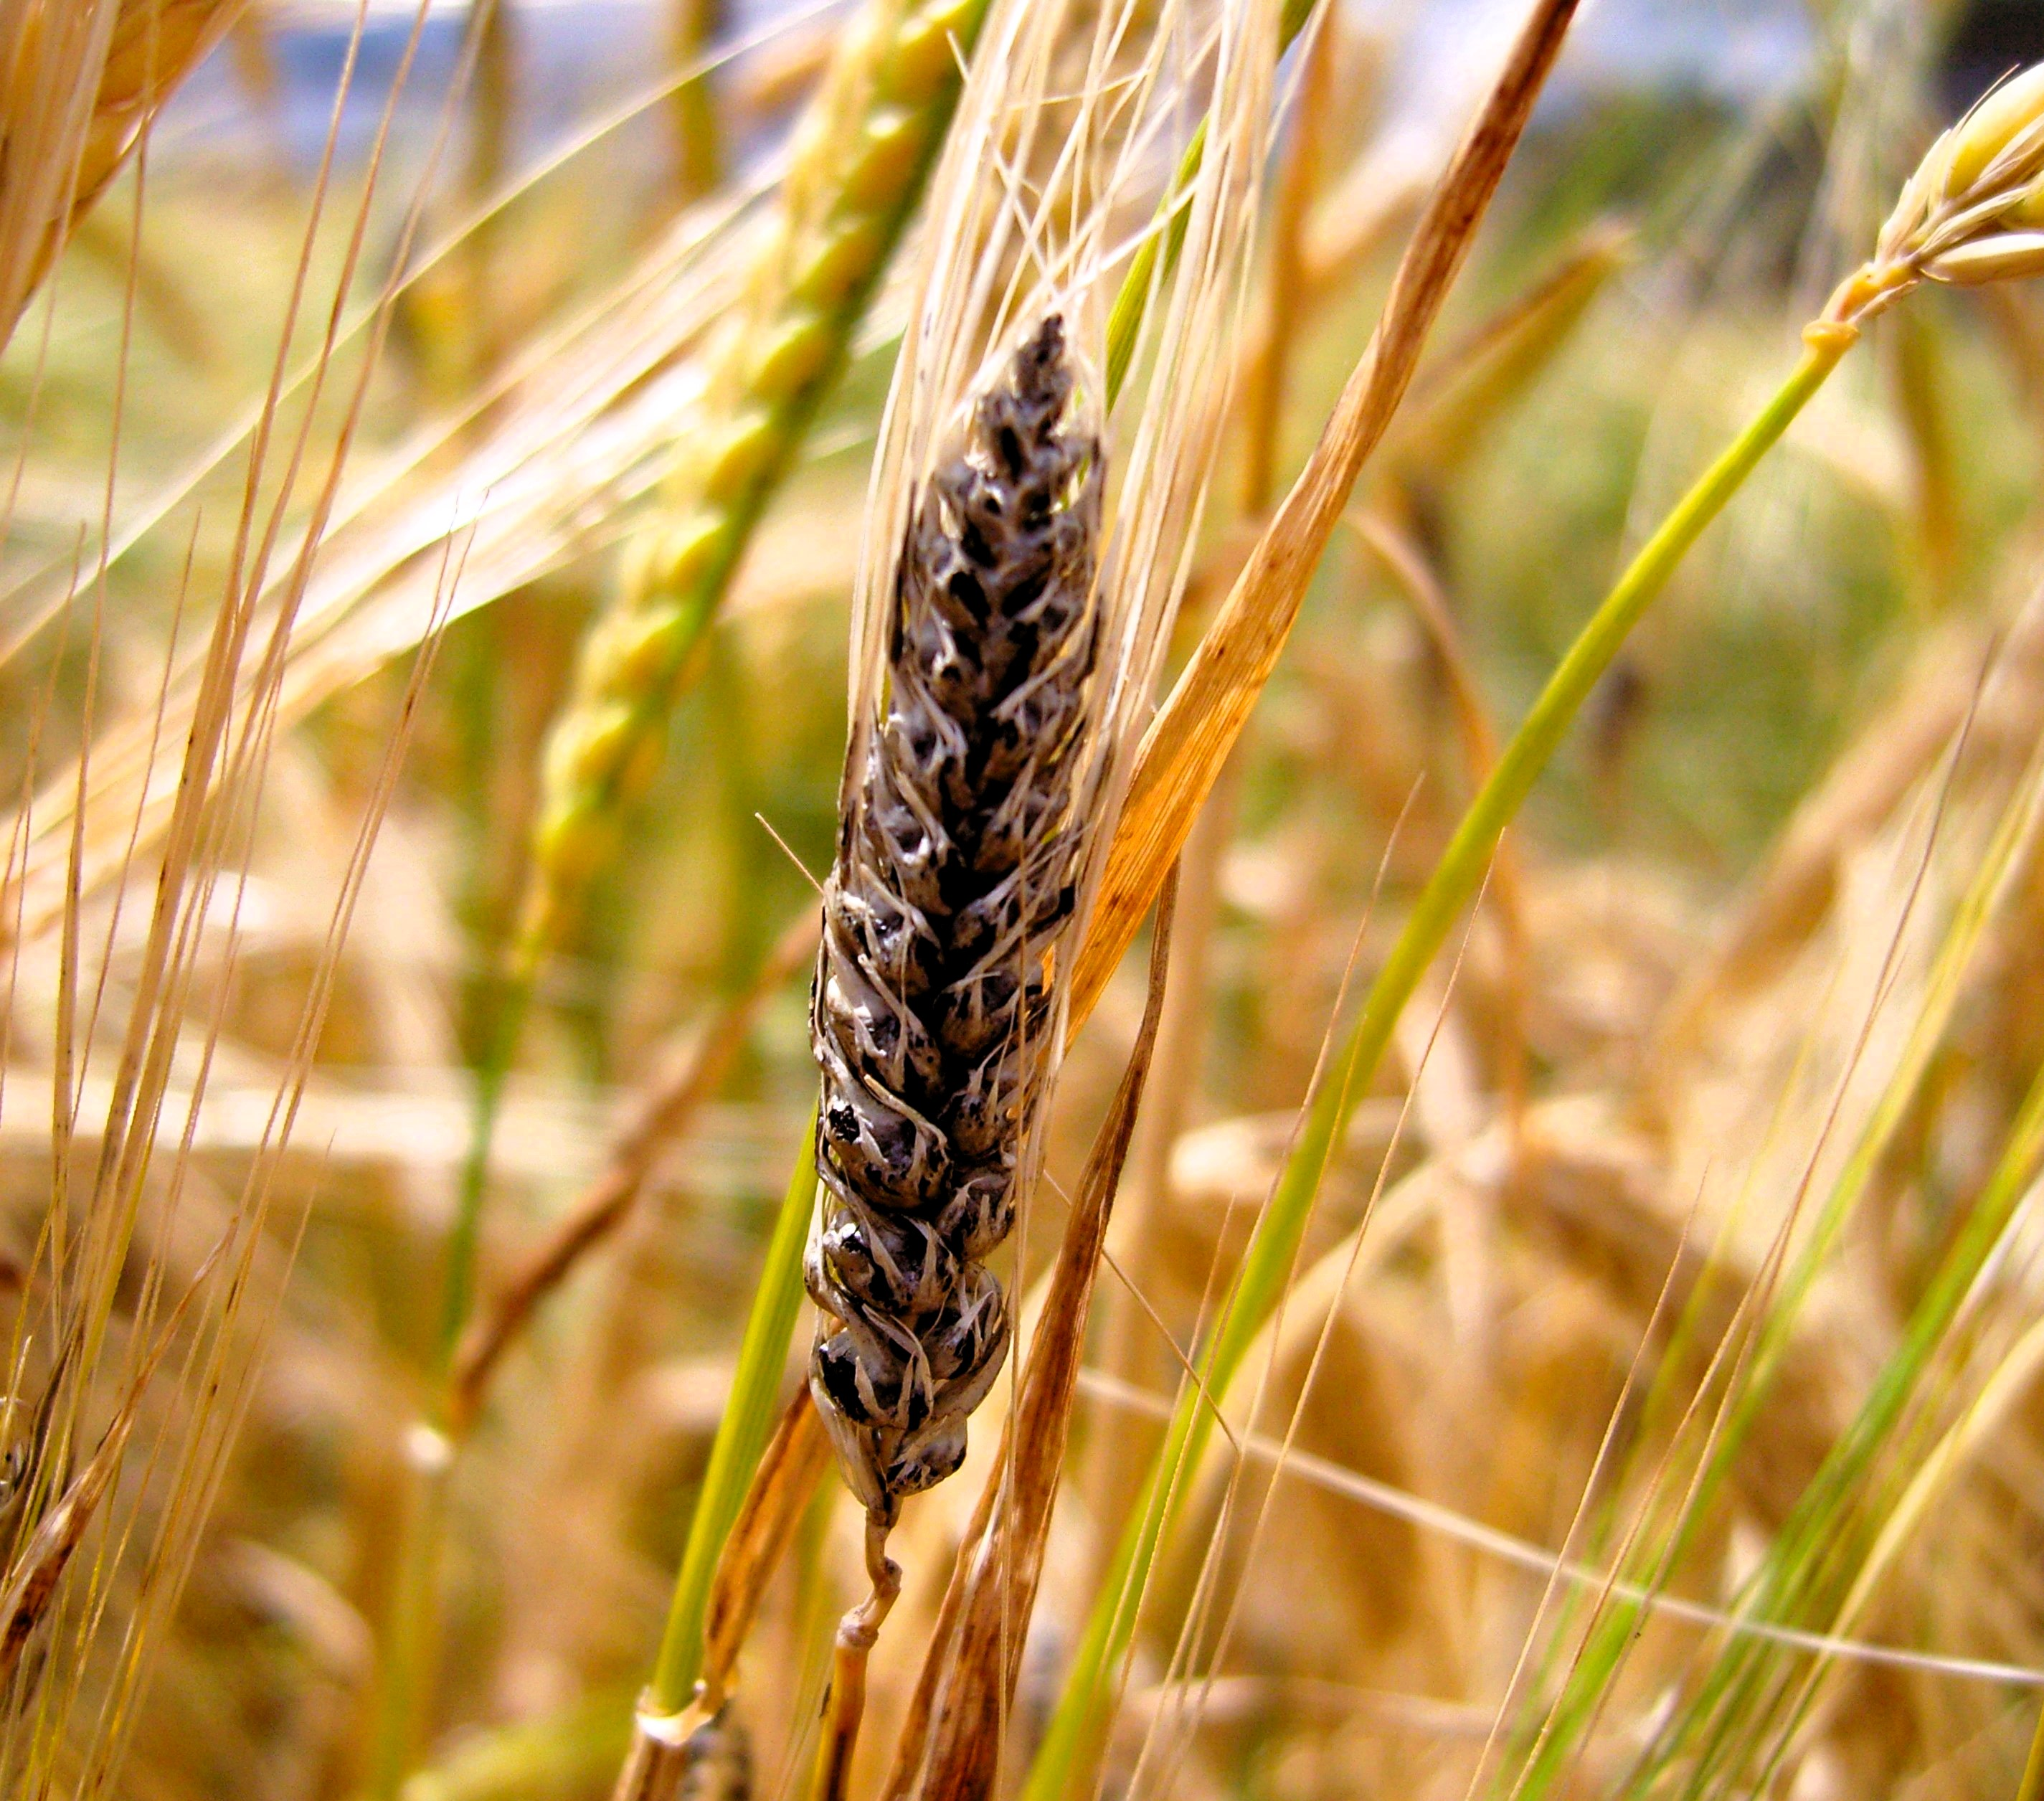Wheat Loose Smut: (800, 415, 1092, 1500)
